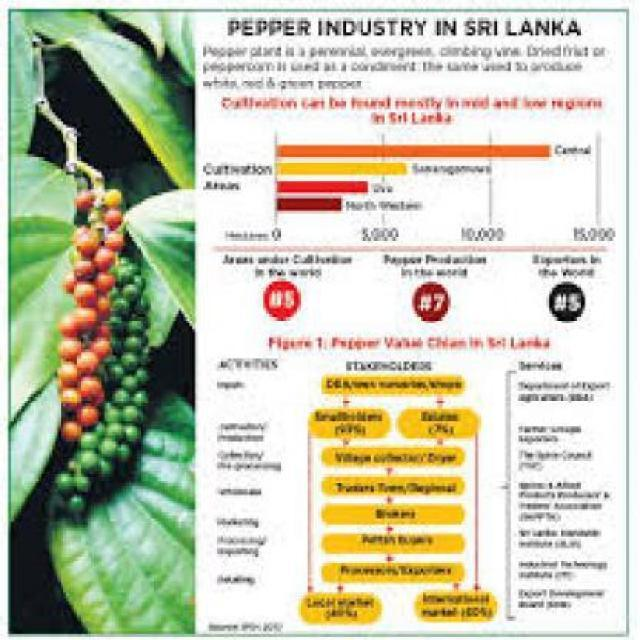RIPE: (52, 169, 99, 420)
UNRIPE: (94, 270, 168, 504)
